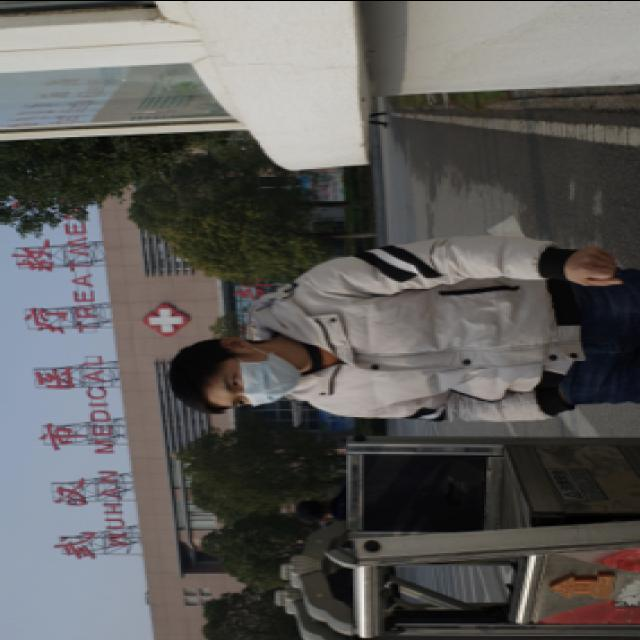mask: (220, 352, 296, 410)
